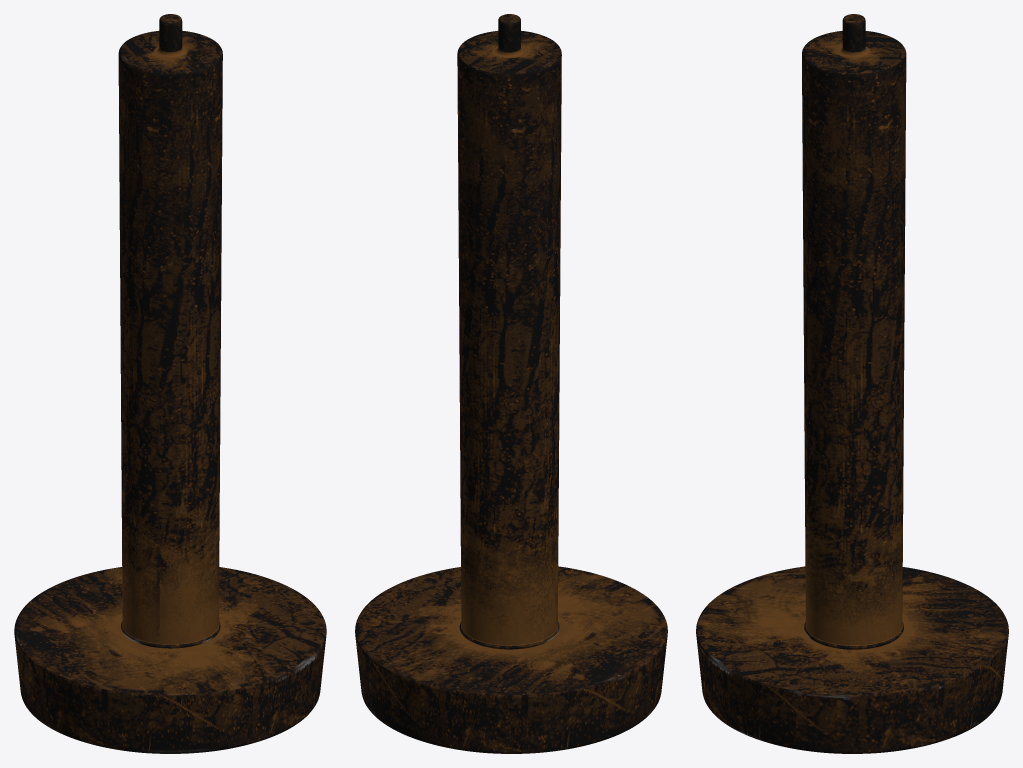
The model's file is xiaoluosi.FBX.
3 renders of one model, left to right at view 1: azimuth 30°, elevation 25°; view 2: azimuth 150°, elevation 25°; view 3: azimuth 270°, elevation 25°, orthographic.
Visible parts, largest first — view 1: xiaoluosi; view 2: xiaoluosi; view 3: xiaoluosi.
Part boxes in pixels (left/top/right/bottom): xiaoluosi: left=14, top=14, right=326, bottom=753; xiaoluosi: left=355, top=14, right=667, bottom=753; xiaoluosi: left=696, top=14, right=1008, bottom=753.
Size of the model in its own units: 8.98 by 21.36 by 8.98.
